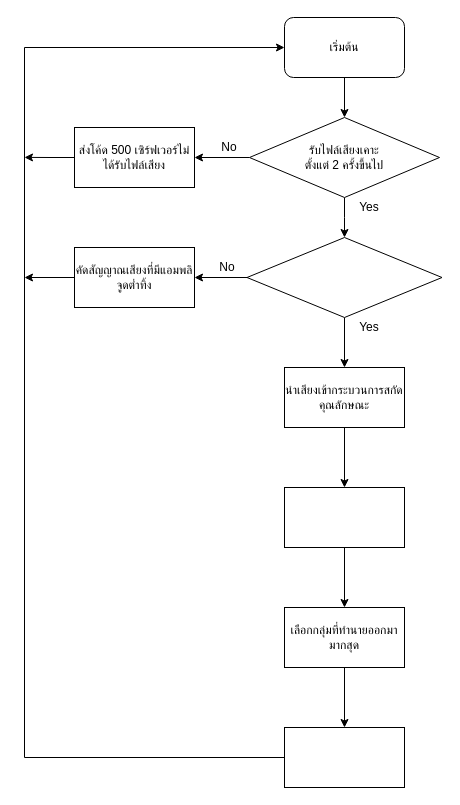
This 460x805 diagram has some shape labels left out. The centre of each missing label's shape, as x and y in pixels:
"ทำนายเสียงทุกการเคาะ" belongs at (344,517).
"ส่งกลุ่มทำนายไปยังผู้ใช้บริการ" belongs at (344,757).
"เลือกช่วงเสียงที่มีการเคาะที่มีค่า แอมพลิจูดมากว่า 0.4 หน่วย" belongs at (344,277).
